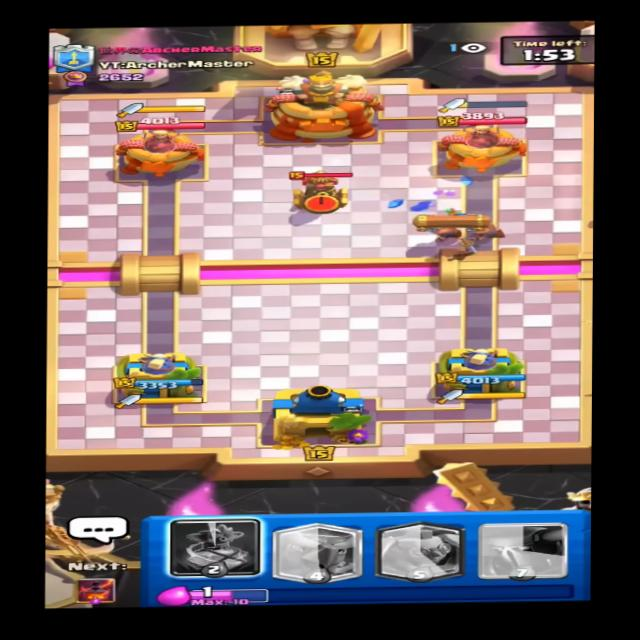tesla: (282, 169, 358, 216)
